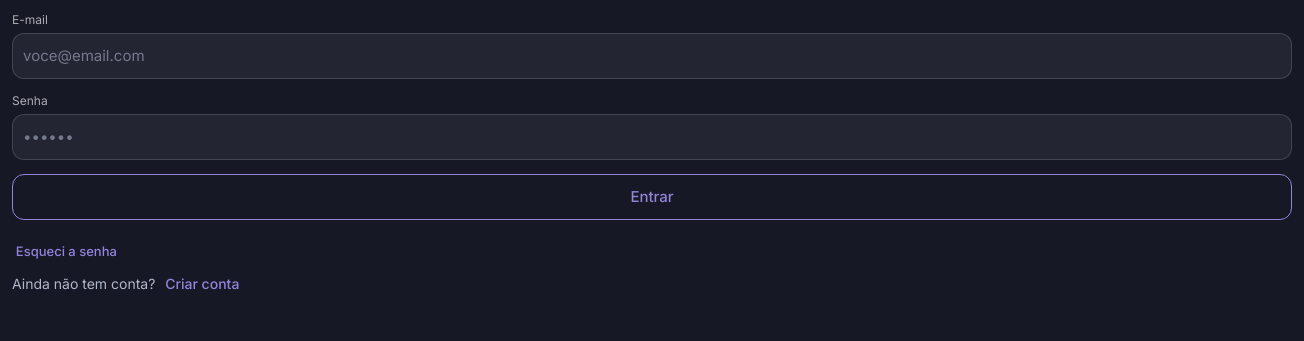
Test case: LoginForm › mostra o erro do servidor e limpa quando a pessoa digita
The image size is (1304, 341).
Type "pedro@email.com" into the field labelled "E-mail" at (652, 56), box [12, 33, 1292, 79]
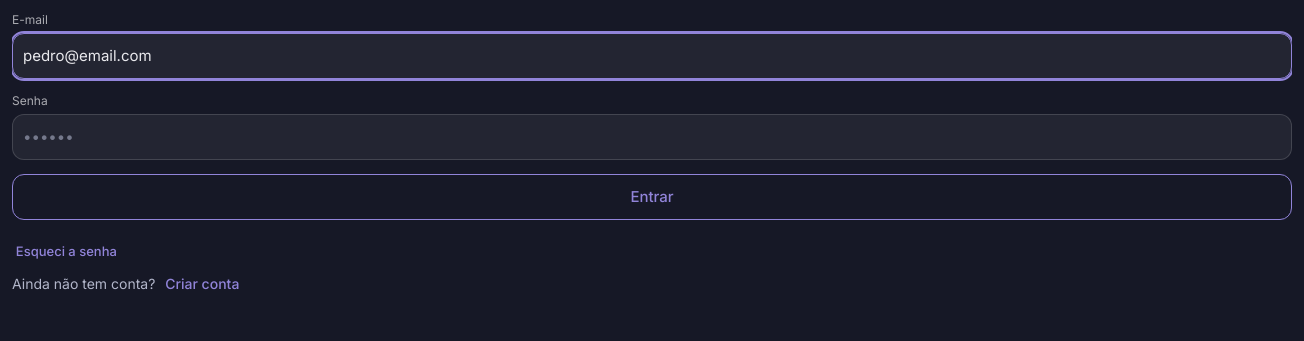
Type "errada" into the password field labelled "Senha" at (652, 137), box [12, 114, 1292, 160]
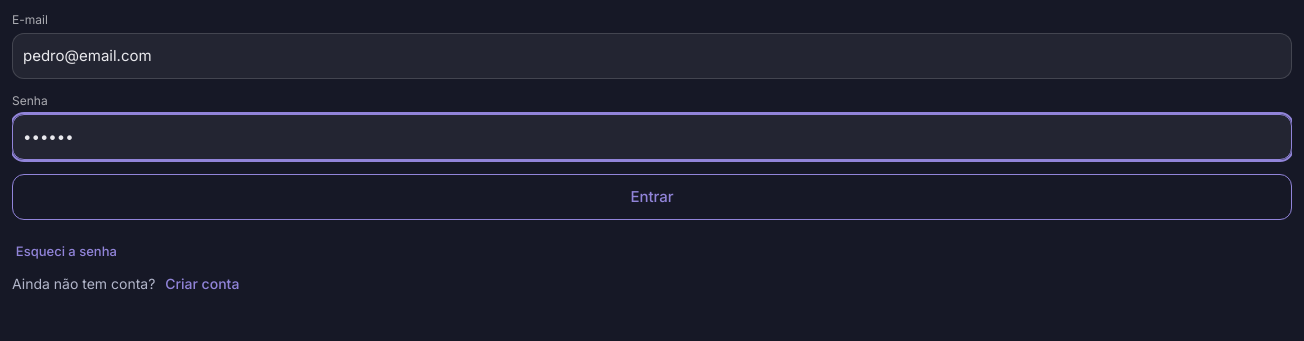
Click the button "Entrar" at (652, 197), box [12, 174, 1292, 220]
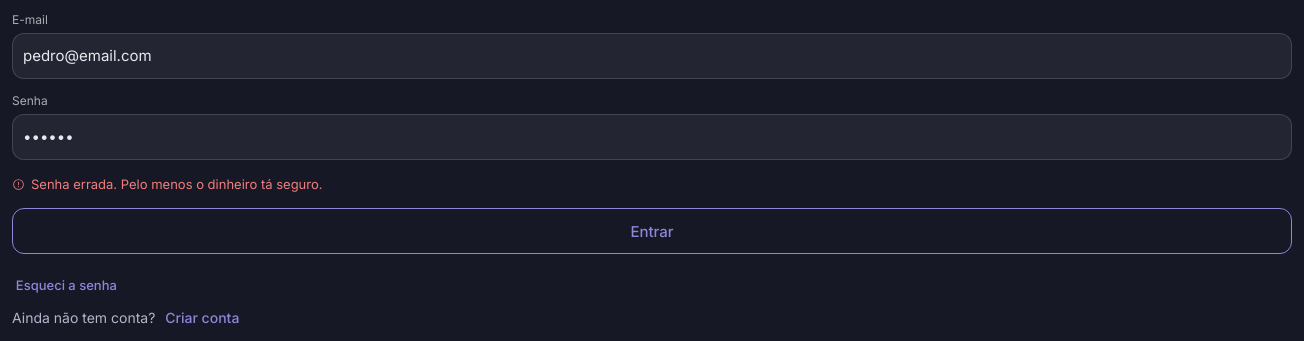
Expected: the message shows "Senha errada.", [31, 176, 322, 192]
Type "x" into the password field labelled "Senha" at (652, 137), box [12, 114, 1292, 160]
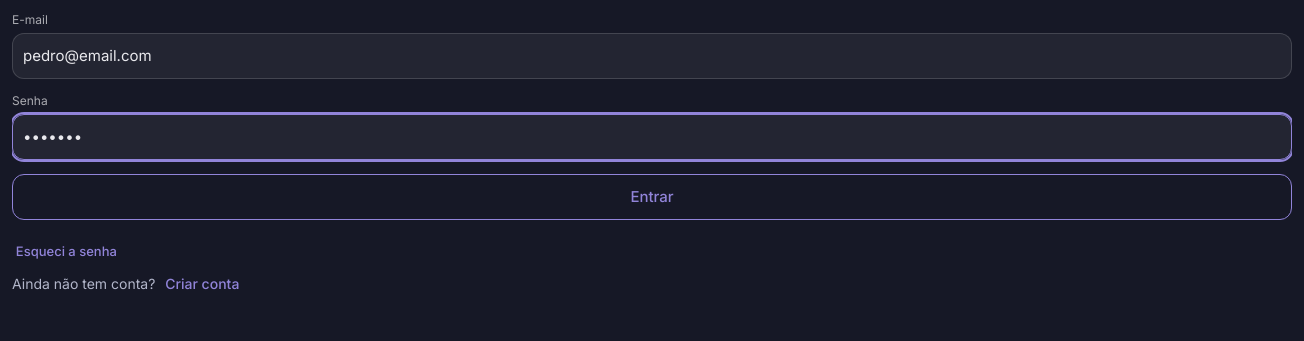
Expected: the message "Senha errada. Pelo menos o dinheiro tá seguro." is gone
